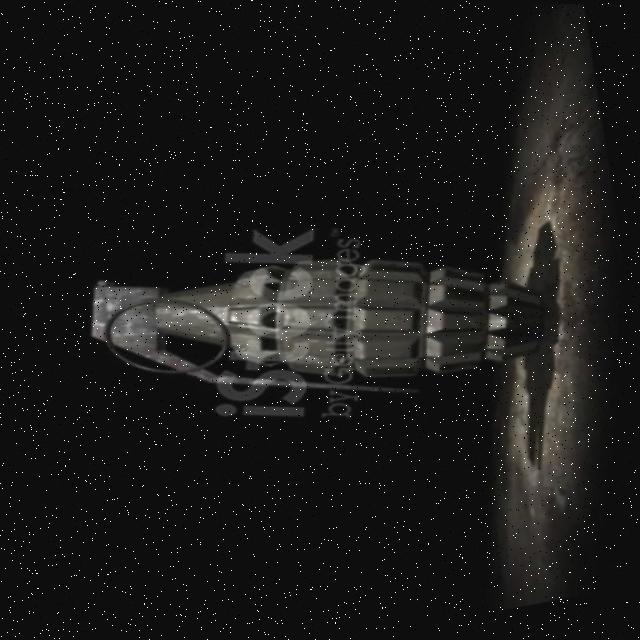grenade: (38, 158, 585, 489)
